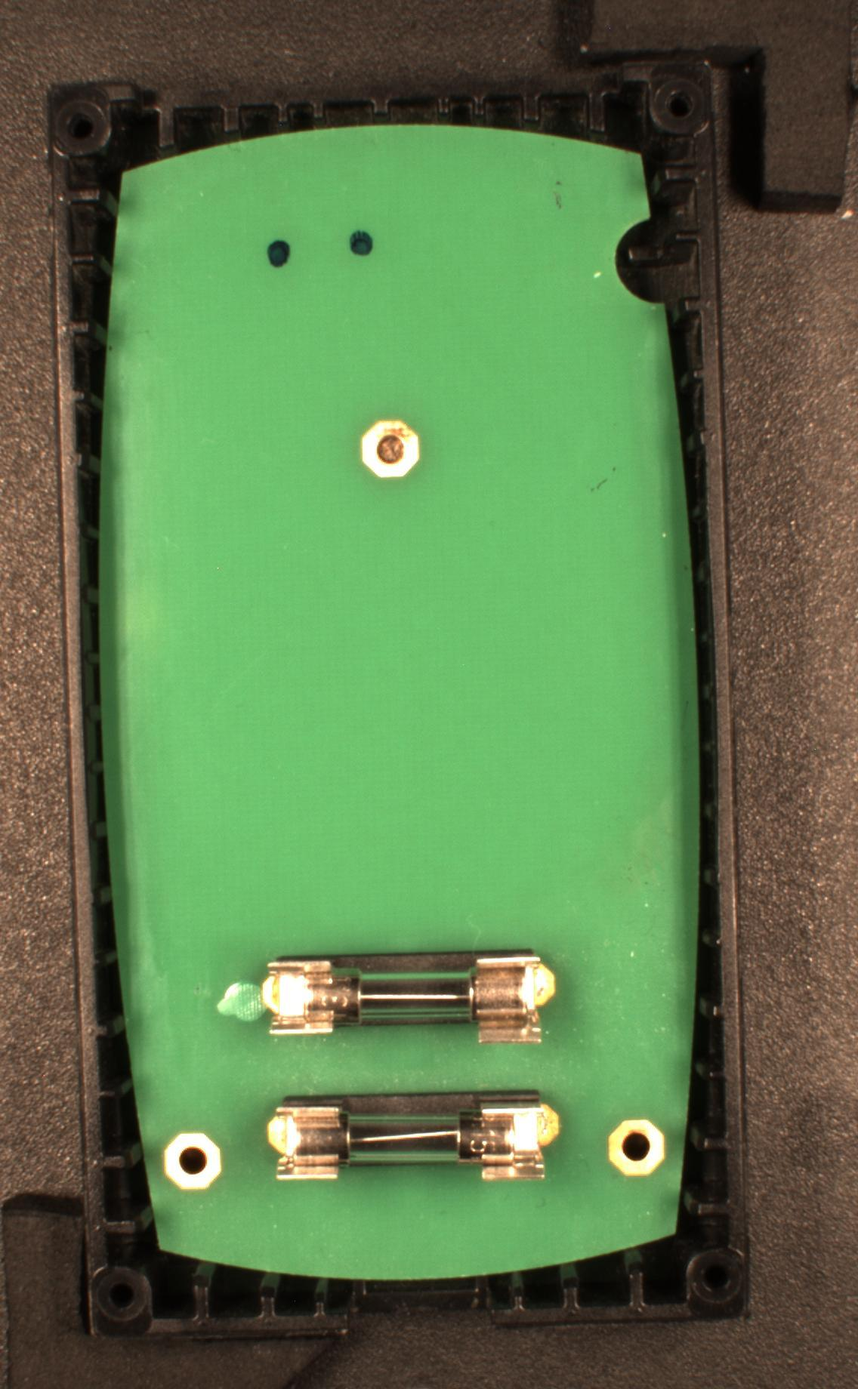Tockasto Ostecenje: (266, 238, 292, 269), (348, 230, 375, 257)
